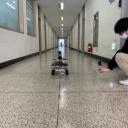cart: (51, 60, 69, 76)
